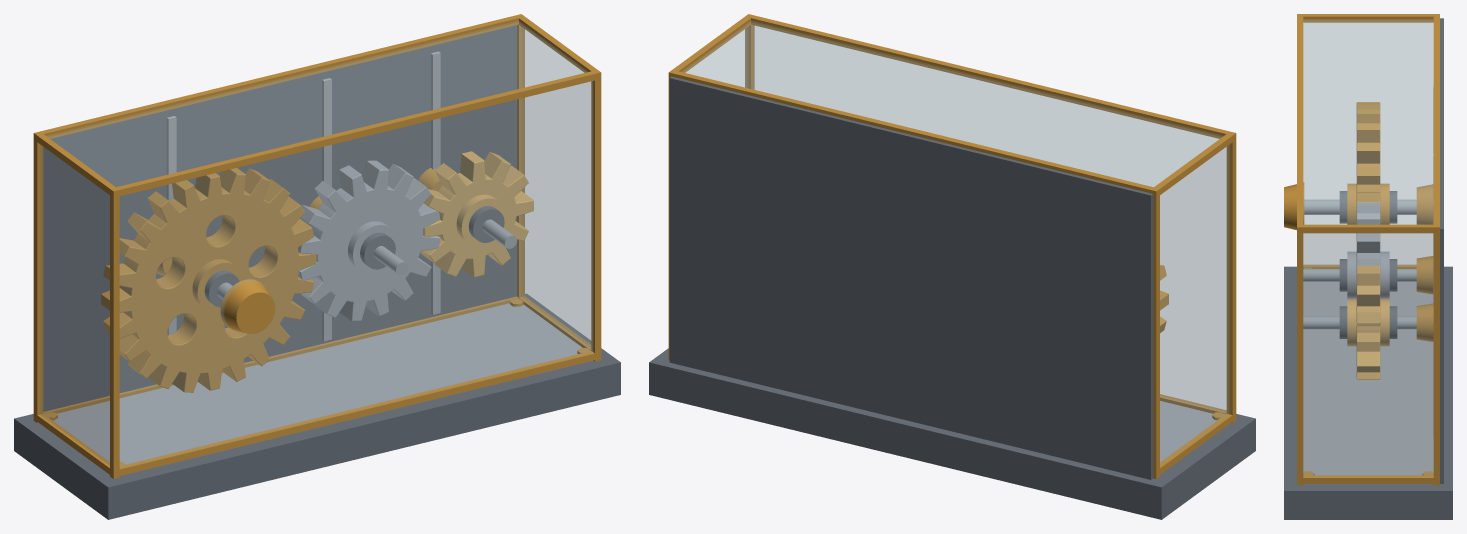
The model's file is gearbox-opt.glb.
The picture shows the model from 3 angles, left to right: view 1: azimuth 30°, elevation 25°; view 2: azimuth 150°, elevation 25°; view 3: azimuth 270°, elevation 25°; orthographic projection. The views are drawn at different scales.
Parts seen in each view (by area): view 1: glass_front, back_plate, glass_top, base_deck, gear_drive_24t_body, base_plinth, glass_left, glass_right, gear_idler_16t_body, gear_output_12t_body, frame_top_front, frame_bottom_front (+18 smaller); view 2: back_plate, glass_front, glass_top, base_plinth, glass_left, frame_top_front, frame_top_back, frame_post_1, frame_post_3, base_deck, glass_right, frame_top_left (+2 smaller); view 3: glass_right, glass_top, glass_left, base_deck, base_plinth, gear_output_12t_body, gear_drive_24t_body, back_plate, frame_post_2, frame_post_4, frame_top_front, frame_top_back (+18 smaller).
Part boxes in pixels (x1,y1,x2,y2): glass_front: [120, 81, 592, 467]; back_plate: [43, 25, 516, 411]; glass_top: [48, 21, 587, 186]; base_deck: [53, 303, 582, 464]; gear_drive_24t_body: [101, 168, 316, 392]; base_plinth: [14, 293, 620, 519]; glass_left: [40, 145, 109, 464]; glass_right: [523, 28, 590, 346]; gear_idler_16t_body: [298, 160, 440, 321]; gear_output_12t_body: [420, 151, 533, 277]; frame_top_front: [110, 70, 601, 197]; frame_bottom_front: [110, 351, 601, 477]; back_plate: [669, 76, 1153, 479]; glass_front: [753, 26, 1225, 410]; glass_top: [682, 21, 1221, 186]; base_plinth: [649, 348, 1255, 519]; glass_left: [1160, 145, 1229, 464]; frame_top_front: [745, 14, 1236, 141]; frame_top_back: [668, 70, 1159, 197]; frame_post_1: [1226, 140, 1236, 423]; frame_post_3: [1153, 195, 1159, 478]; base_deck: [1160, 401, 1216, 461]; glass_right: [686, 28, 746, 87]; frame_top_left: [1154, 134, 1232, 194]; glass_right: [1303, 233, 1433, 476]; glass_top: [1303, 19, 1433, 224]; glass_left: [1304, 23, 1432, 265]; base_deck: [1303, 281, 1433, 475]; base_plinth: [1284, 266, 1452, 519]; gear_output_12t_body: [1356, 265, 1380, 379]; gear_drive_24t_body: [1356, 102, 1380, 202]; back_plate: [1440, 18, 1443, 483]; frame_post_2: [1297, 233, 1303, 485]; frame_post_4: [1433, 233, 1439, 485]; frame_top_front: [1297, 14, 1303, 233]; frame_top_back: [1433, 14, 1439, 233].
Bounding box in the file's own units: 1.32 × 0.788 × 0.42.
